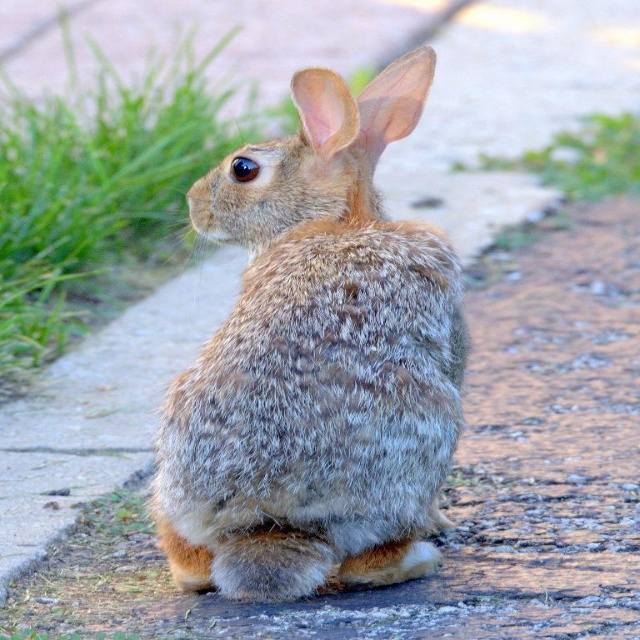Rabbit: (141, 45, 468, 603)
